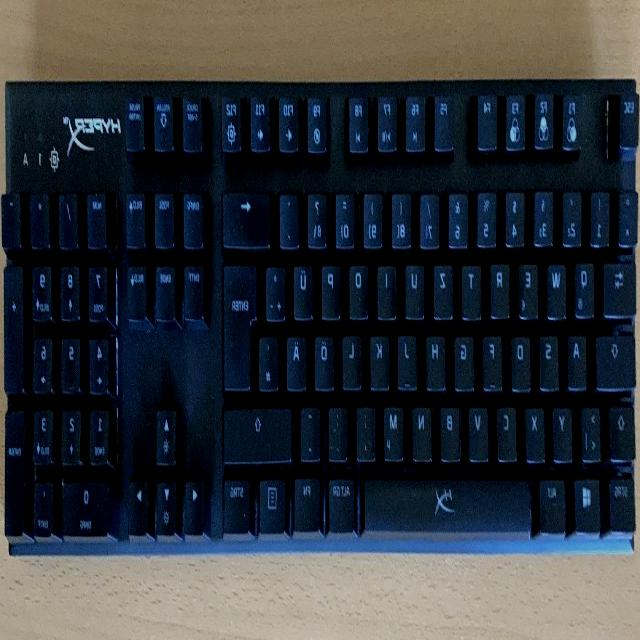0: (336, 185, 358, 248)
1: (591, 184, 613, 244)
2: (563, 183, 585, 245)
3: (534, 184, 556, 244)
4: (506, 184, 528, 244)
5: (477, 185, 499, 245)
6: (449, 185, 471, 247)
7: (420, 186, 442, 246)
8: (392, 185, 414, 249)
9: (364, 185, 386, 247)
a: (568, 328, 590, 388)
accent: (280, 186, 302, 246)
ae: (287, 329, 309, 389)
alt-left: (540, 472, 568, 530)
altgr-right: (329, 470, 357, 530)
b: (440, 399, 463, 459)
c: (497, 399, 519, 459)
caret: (620, 186, 640, 242)
comma: (357, 398, 378, 458)
d: (511, 329, 533, 389)
del: (224, 185, 273, 245)
e: (519, 256, 541, 316)
enter: (224, 256, 260, 390)
f: (483, 328, 505, 388)
g: (455, 329, 477, 387)
h: (426, 328, 448, 388)
hash: (260, 328, 282, 390)
i: (377, 258, 399, 316)
j: (399, 328, 420, 388)
k: (370, 327, 391, 387)
keyboard: (0, 72, 640, 559)
l: (343, 328, 365, 388)
less: (583, 399, 604, 457)
m: (385, 398, 407, 460)
minus: (302, 400, 323, 458)
n: (413, 399, 435, 459)
o: (350, 258, 372, 316)
oe: (315, 328, 337, 388)
p: (322, 258, 343, 316)
plus: (266, 258, 288, 318)
point: (329, 399, 350, 457)
q: (575, 256, 597, 316)
r: (491, 256, 513, 316)
s: (540, 329, 562, 387)
shift-left: (610, 401, 638, 457)
shift-lock: (596, 330, 638, 386)
shift-right: (225, 402, 295, 460)
space: (363, 471, 536, 531)
ss: (308, 186, 330, 246)
strg-left: (610, 471, 638, 527)
strg-right: (223, 471, 253, 531)
t: (462, 257, 484, 317)
tab: (604, 256, 638, 312)
u: (405, 257, 427, 317)
ue: (295, 258, 316, 318)
v: (469, 398, 491, 458)
w: (547, 257, 569, 317)
x: (526, 399, 547, 459)
y: (554, 399, 575, 459)
z: (434, 259, 456, 317)
